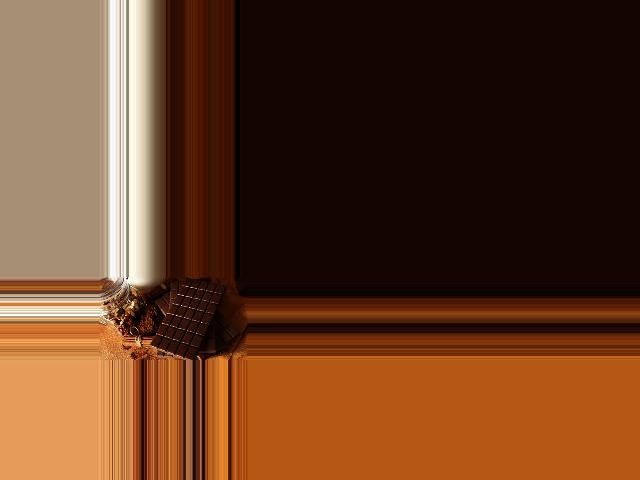chocolate: (145, 281, 227, 360)
